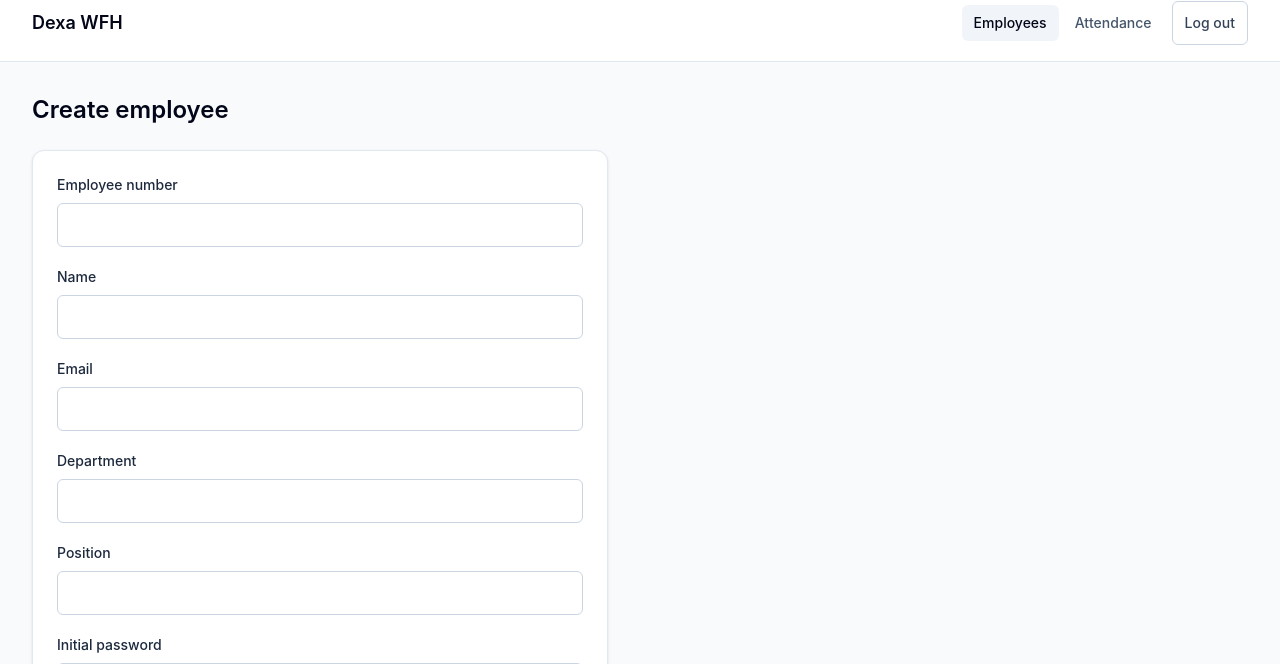
it: employee form routes › disables form fields and submission while saving
Step 1. Type "EMP-001" into the field labelled "Employee number" → x=320, y=225, box [57,203,583,247]
Step 2. Type "Maria Example" into the field labelled "Name" → x=320, y=317, box [57,295,583,339]
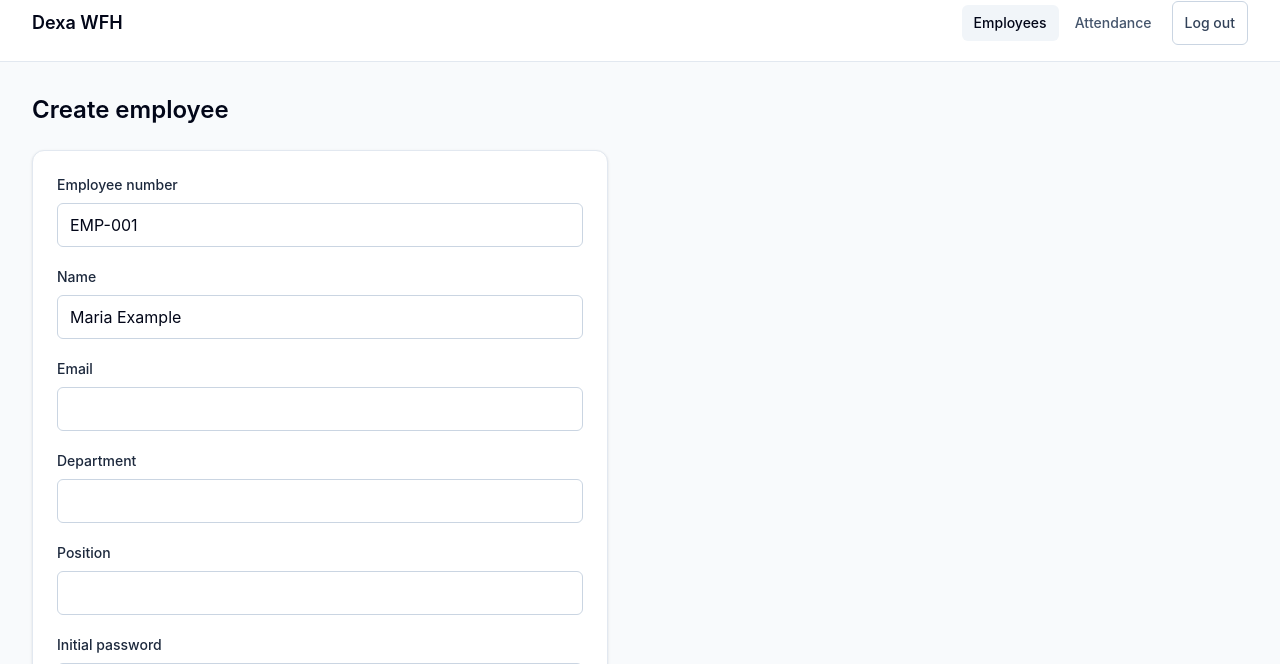
Step 3. Type "maria@example.test" into the field labelled "Email" → x=320, y=409, box [57,387,583,431]
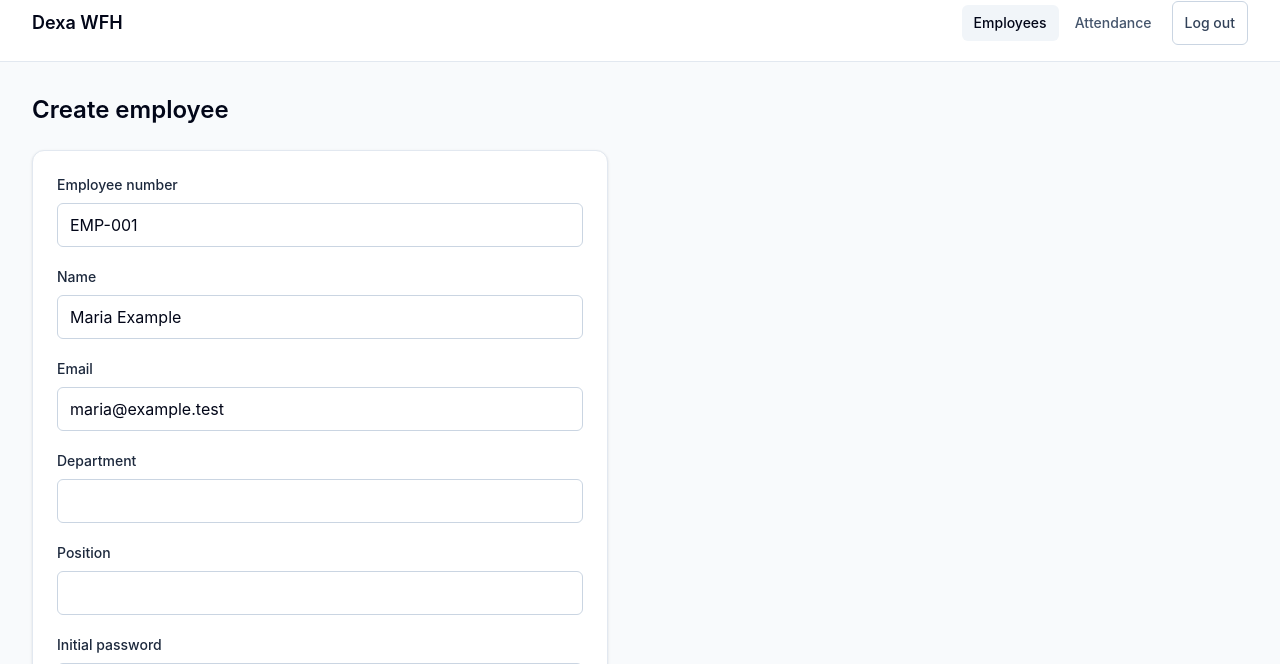
Step 4. Type "People" into the field labelled "Department" → x=320, y=501, box [57,479,583,523]
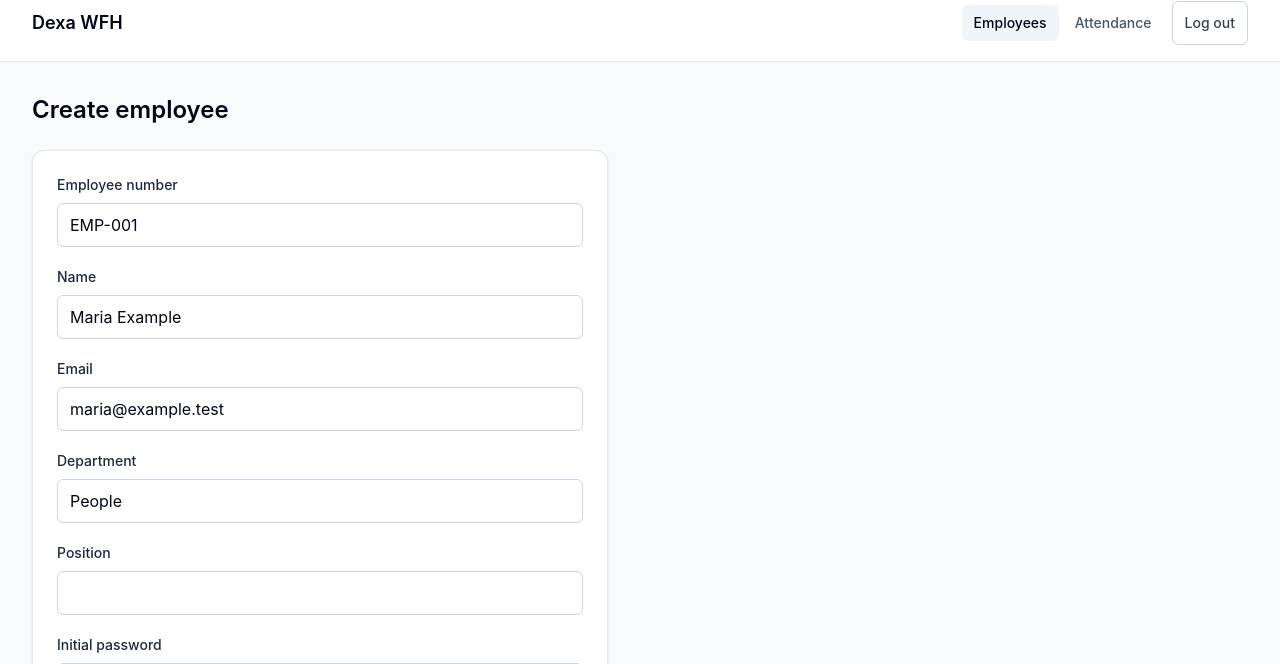
Step 5. Type "Manager" into the field labelled "Position" → x=320, y=593, box [57,571,583,615]
(page scrolled)
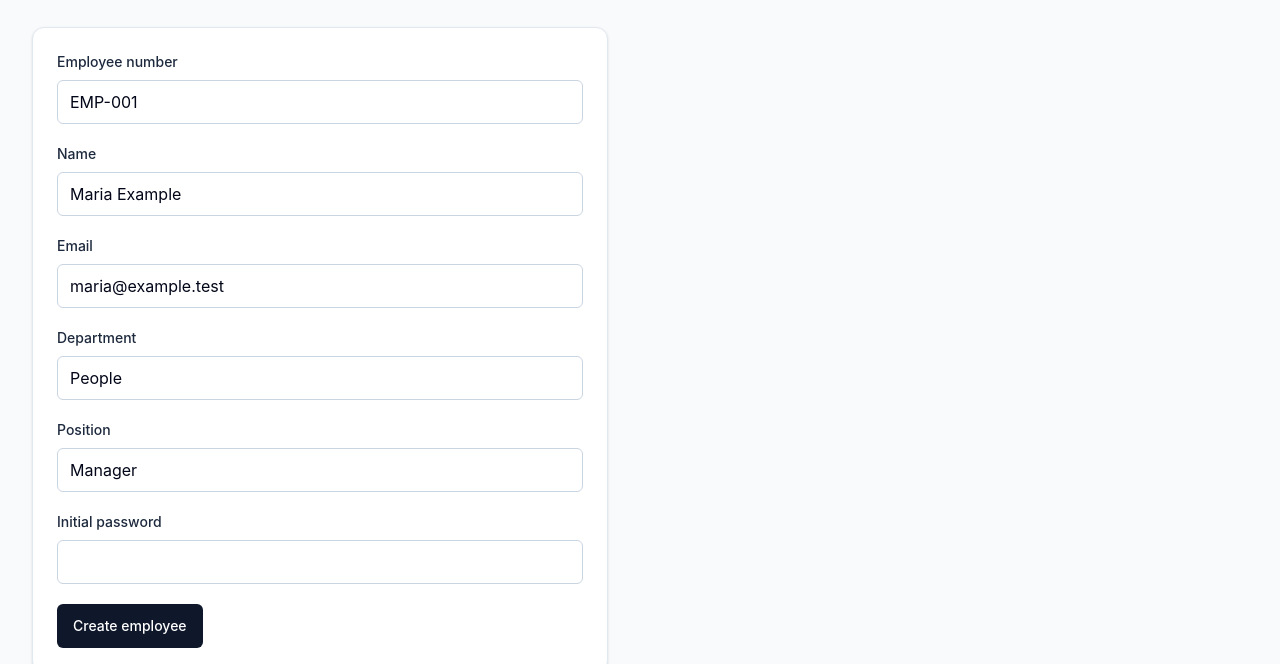
Step 6. Type "validpassword" into the password field labelled "Initial password" → x=320, y=562, box [57,540,583,584]
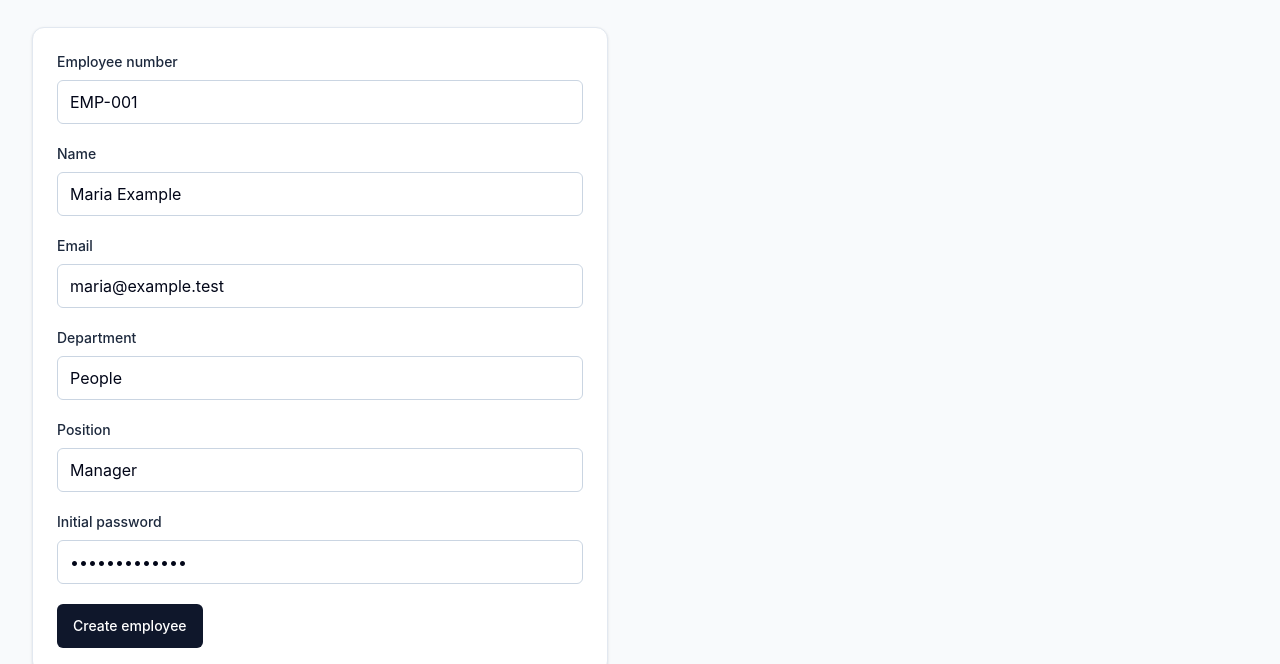
Step 7. Click the button "Create employee" → x=130, y=626, box [57,604,203,648]
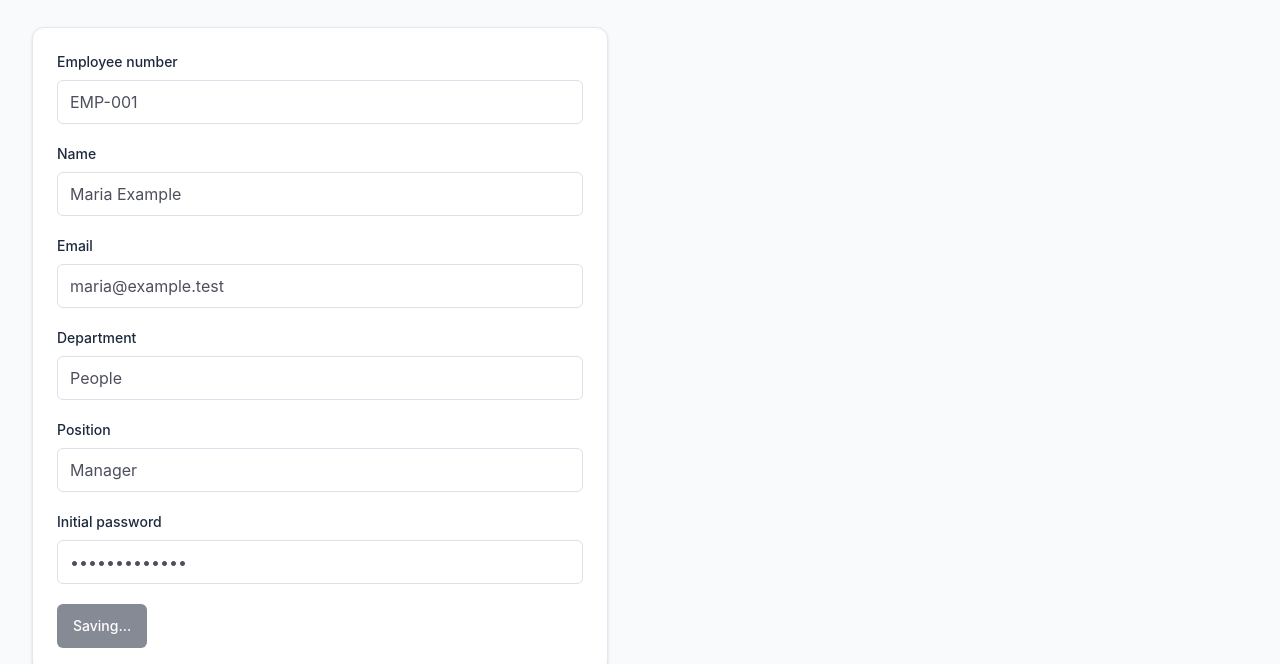
Expected: the field labelled "Name" is disabled, [57,172,583,216]
Expected: the button "Saving..." is disabled, [57,604,147,648]
